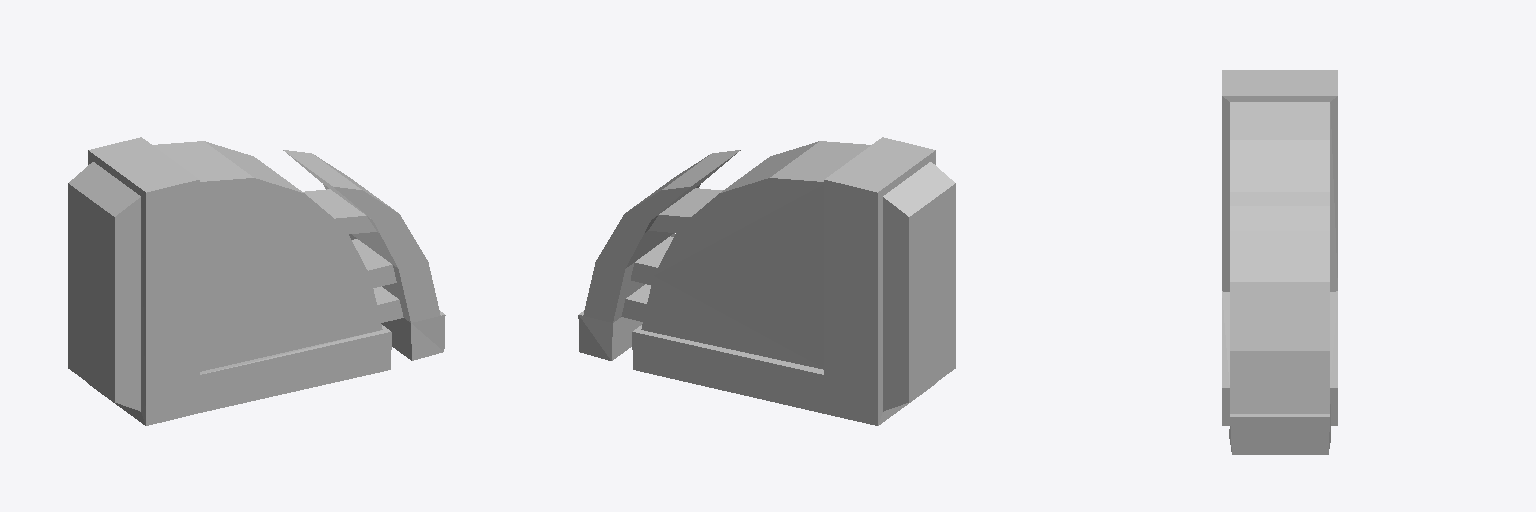
Rendered from prism_canon_col.obj.
3 renders of one model, left to right at view 1: azimuth 30°, elevation 25°; view 2: azimuth 150°, elevation 25°; view 3: azimuth 270°, elevation 25°, orthographic.
Visible parts, largest first — view 1: canon_col_Cylinder.000; view 2: canon_col_Cylinder.000; view 3: canon_col_Cylinder.000.
Part boxes in pixels (left/top/right/bottom): canon_col_Cylinder.000: left=68, top=137, right=445, bottom=425; canon_col_Cylinder.000: left=578, top=137, right=955, bottom=425; canon_col_Cylinder.000: left=1222, top=70, right=1337, bottom=454.
Bounding box in the file's own units: 2.45 × 1.68 × 0.7469.